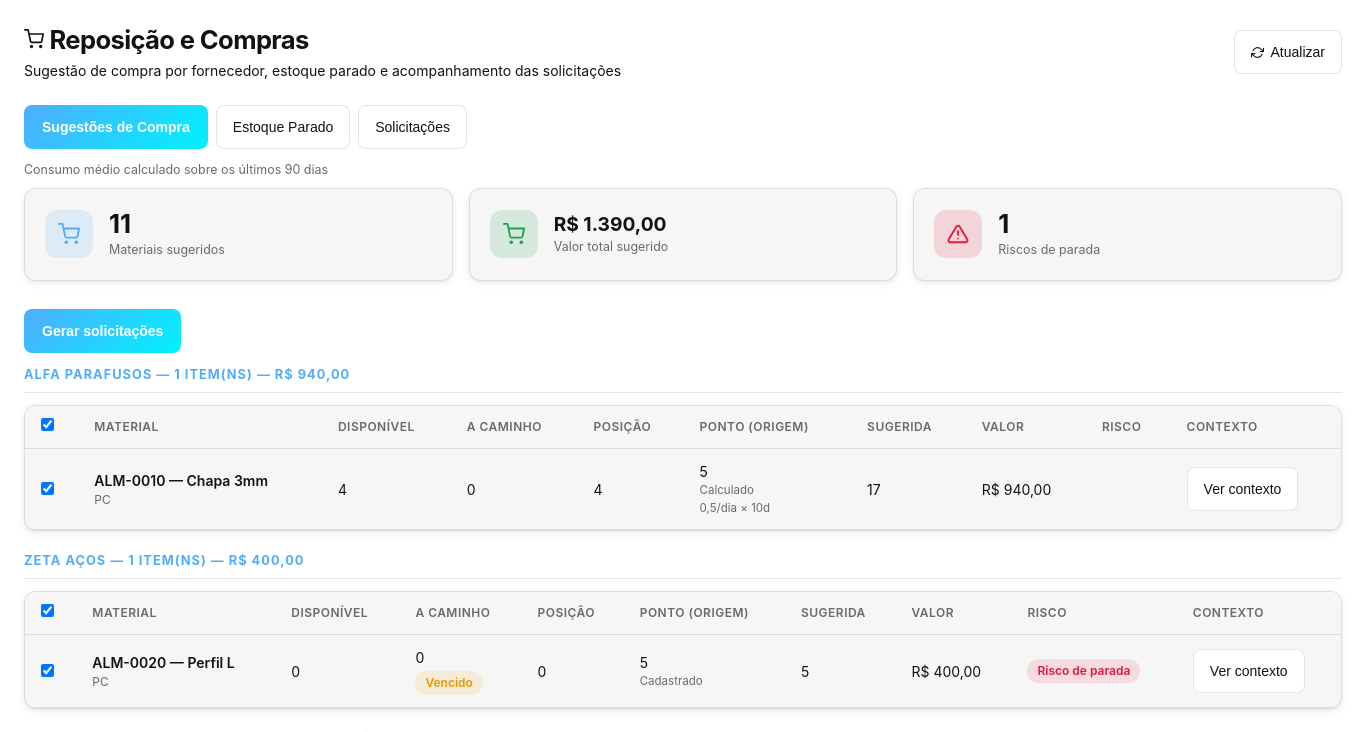
Test: ReposicaoAlmoxarifado — aba Sugestões de Compra › painel de resultado lista cada solicitacao criada com codigo, nome e quantidade real
Click the button "Gerar solicitações": [103, 331] box [24,309,181,353]
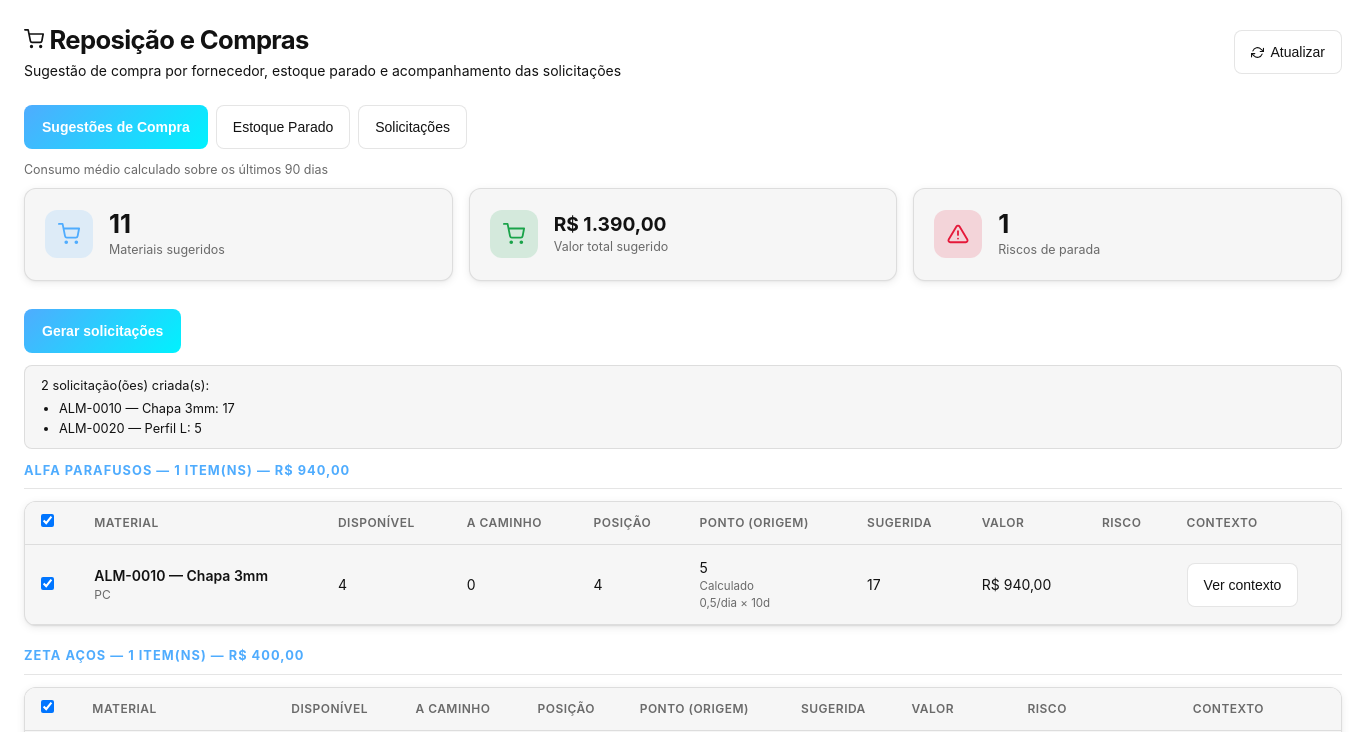
Check: the text "2 solicitação(ões) criada(s):" is shown, box [41,378,235,436]
Check: the text "ALM-0010 — Chapa 3mm: 17" is shown, box [59,401,235,416]
Check: the text "ALM-0020 — Perfil L: 5" is shown, box [59,420,202,436]
